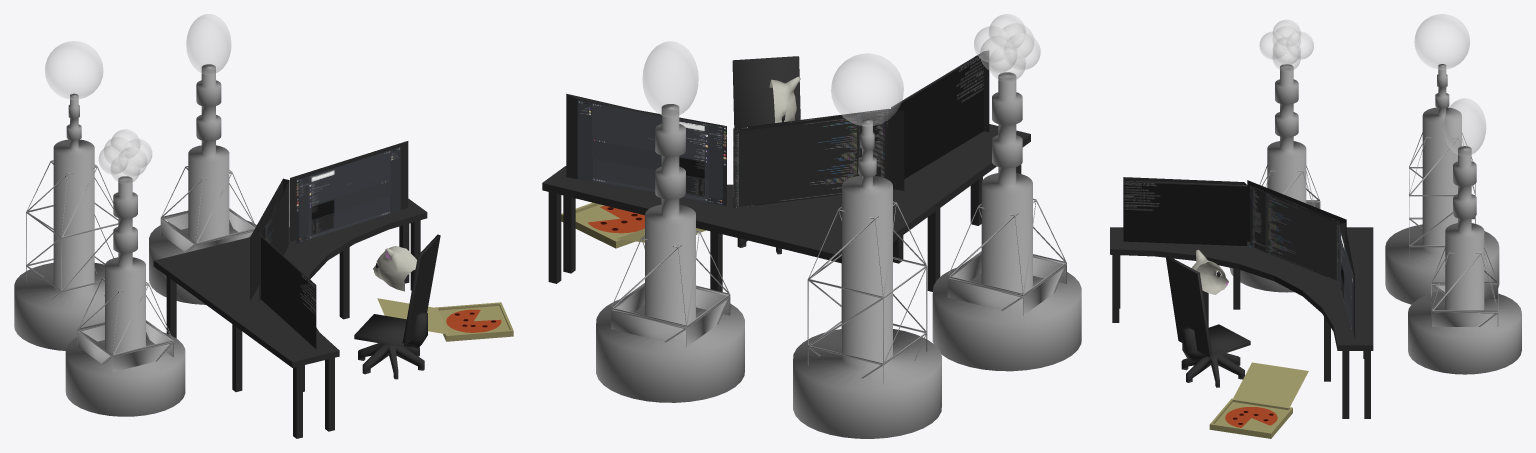
Rendered from Hacker.glb.
3 views of the same model, side by side, from view 1: azimuth 30°, elevation 25°; view 2: azimuth 150°, elevation 25°; view 3: azimuth 270°, elevation 25° (orthographic). The views are drawn at different scales.
Parts seen in each view (by area): view 1: Cube.008, Cube.007, Cube.003, Cube.005, screen3), Cube.004, screen1, Cube.006, Cube.001, screen2, Cube.002, Plane; view 2: Cube.007, Cube.005, Cube.008, Cube.003, screen2, screen3), screen1, Cube.004, Cube.002, Cube.006, Plane; view 3: Cube.005, Cube.007, Cube.003, screen1, Cube.008, screen2, Cube.006, Cube.002, Cube.004, Cube.001, screen3), Plane.
Part boxes in pixels (x1,y1,x2,y2): Cube.008: (65, 129, 185, 416); Cube.007: (14, 41, 118, 350); Cube.003: (153, 198, 427, 367); Cube.005: (149, 14, 256, 304); screen3): (290, 141, 408, 243); Cube.004: (166, 220, 420, 438); screen1: (259, 235, 316, 348); Cube.006: (377, 298, 513, 341); Cube.001: (354, 312, 427, 379); screen2: (250, 178, 289, 300); Cube.002: (402, 234, 440, 346); Plane: (373, 246, 416, 291); Cube.007: (793, 53, 941, 438); Cube.005: (596, 41, 744, 402); Cube.008: (932, 14, 1081, 371); Cube.003: (542, 124, 1030, 263); screen2: (733, 109, 904, 208); screen3): (566, 93, 726, 205); screen1: (891, 50, 989, 178); Cube.004: (548, 164, 1021, 328); Cube.002: (732, 56, 800, 128); Cube.006: (561, 202, 706, 248); Plane: (769, 76, 800, 122); Cube.005: (1408, 98, 1521, 374); Cube.007: (1385, 14, 1499, 304); Cube.003: (1110, 227, 1373, 350); screen1: (1123, 177, 1247, 245); Cube.008: (1229, 20, 1320, 292); screen2: (1247, 180, 1346, 281); Cube.006: (1209, 362, 1308, 438); Cube.002: (1165, 256, 1212, 357); Cube.004: (1112, 255, 1370, 418); Cube.001: (1181, 324, 1250, 387); screen3): (1339, 223, 1354, 338); Plane: (1191, 249, 1228, 294).
Size of what is drawn, in the model's own units: 5.46 by 3.51 by 4.89.
Materials: 12 (3 with a texture image).
